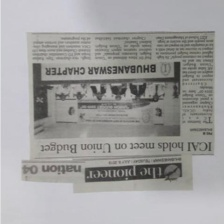news_paper: (21, 29, 216, 193)
